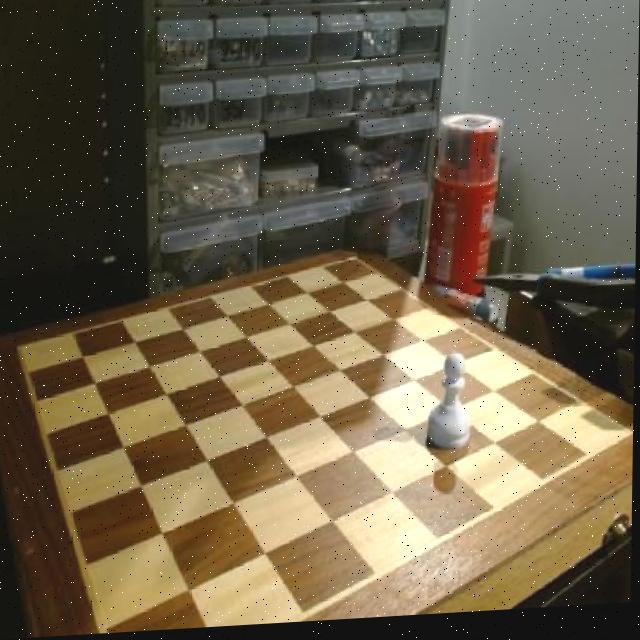white-knight: (428, 351, 477, 466)
